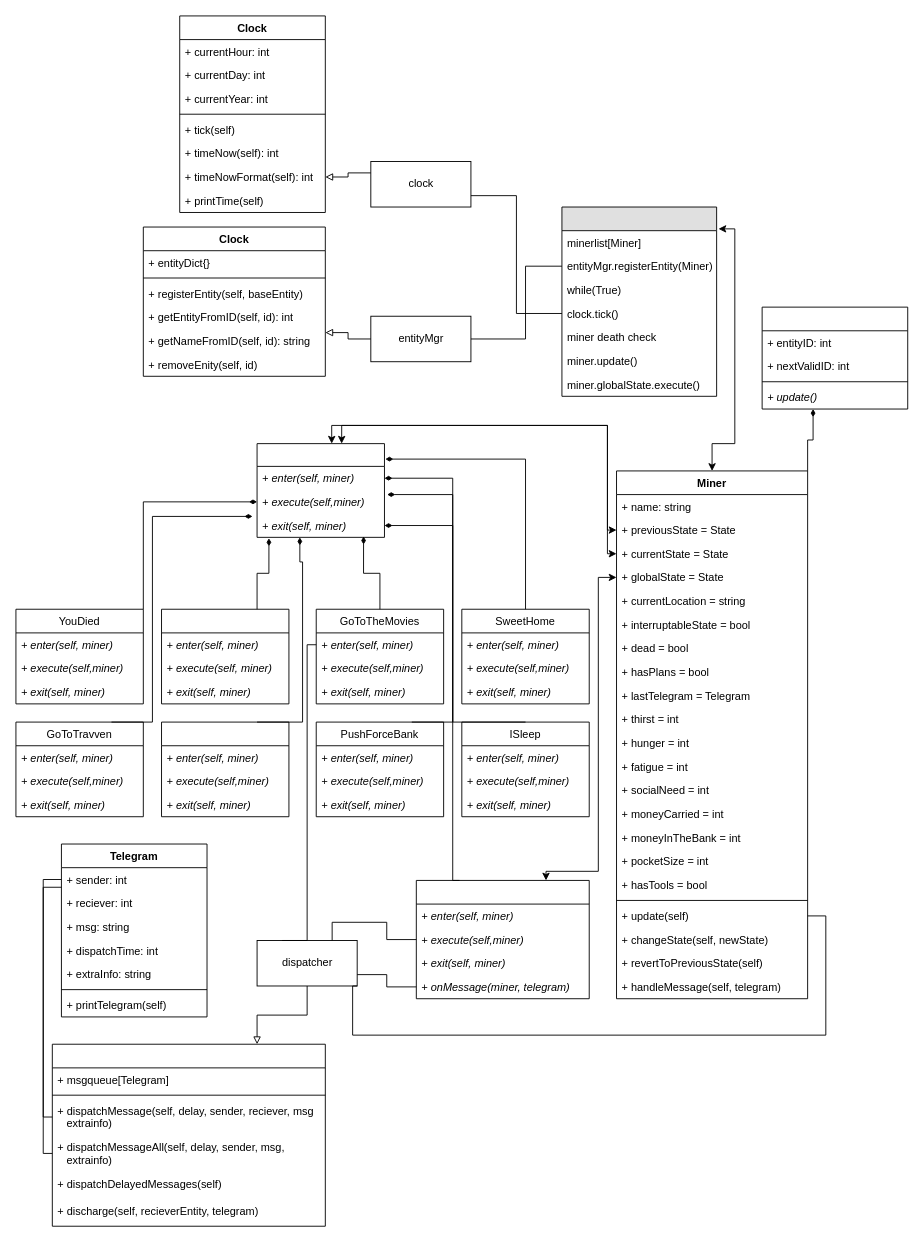
Some shapes in this 924 by 1245 pixel diagram are drawn without their labels. Each missing label, with the box of its shape:
BaseGameEntity: (761, 306, 908, 409)
DallasTorsdag: (161, 608, 289, 704)
GlobalState: (415, 880, 589, 999)
main(): (561, 206, 717, 396)
MessageDispatcher: (51, 1043, 325, 1226)
NuggetMine: (161, 721, 289, 817)
State: (256, 443, 384, 537)
